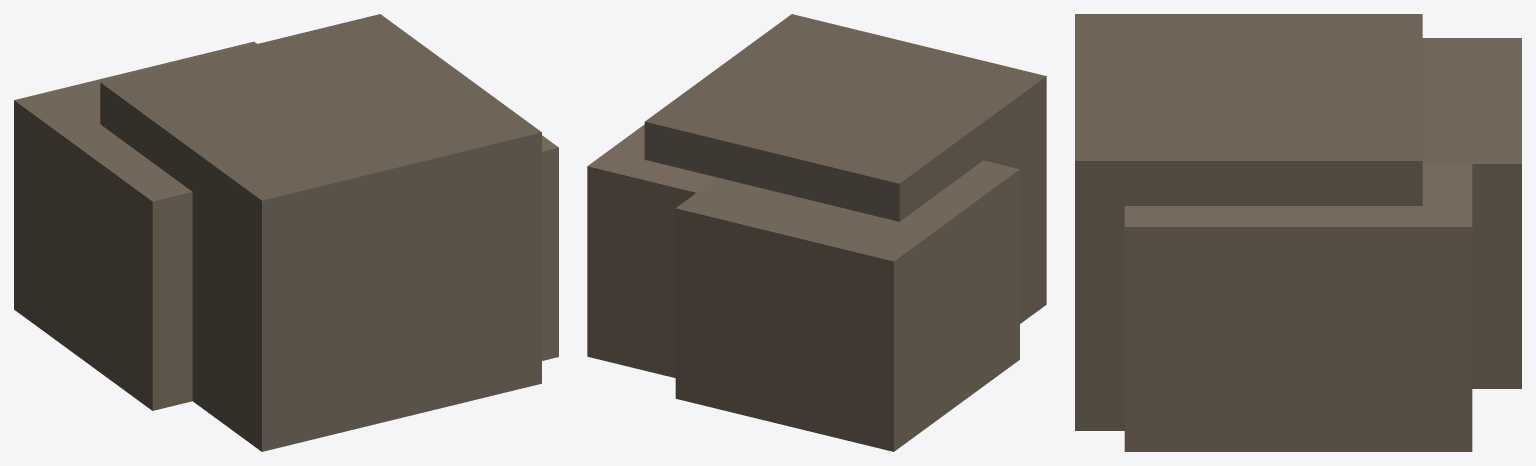
File: turba_04.glb
3 views of the same model, side by side, from view 1: azimuth 30°, elevation 25°; view 2: azimuth 150°, elevation 25°; view 3: azimuth 270°, elevation 25° (orthographic). The views are drawn at different scales.
Visible parts, largest first — view 1: turba_04; view 2: turba_04; view 3: turba_04.
Part boxes in pixels (left/top/right/bottom): turba_04: left=14, top=14, right=558, bottom=451; turba_04: left=587, top=14, right=1046, bottom=451; turba_04: left=1075, top=14, right=1521, bottom=451.
Bounding box in the file's own units: 0.9 × 0.6 × 0.9.
